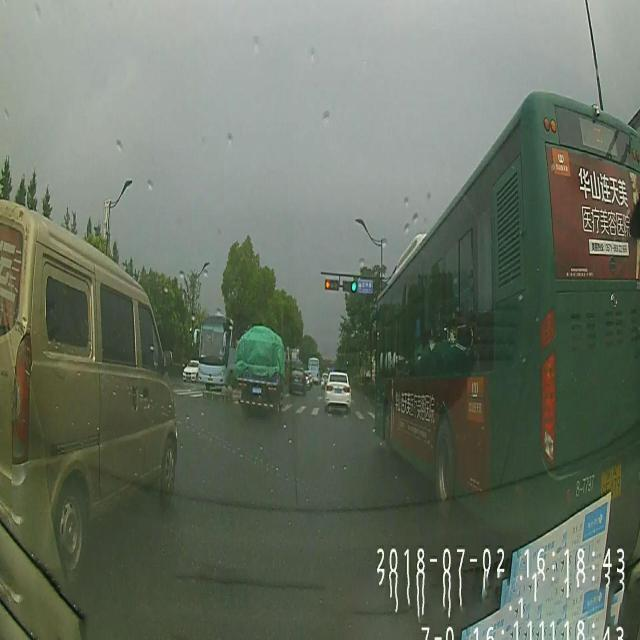car: (0, 196, 189, 580), (237, 324, 290, 414), (323, 366, 352, 416), (292, 366, 308, 396), (184, 353, 198, 386)
